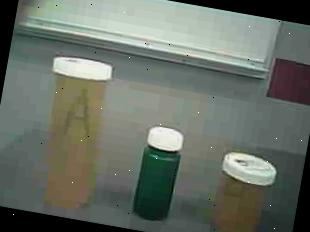Bottle A: (24, 47, 130, 220)
Bottle B: (203, 145, 280, 232)
Bottle C: (127, 121, 189, 229)
